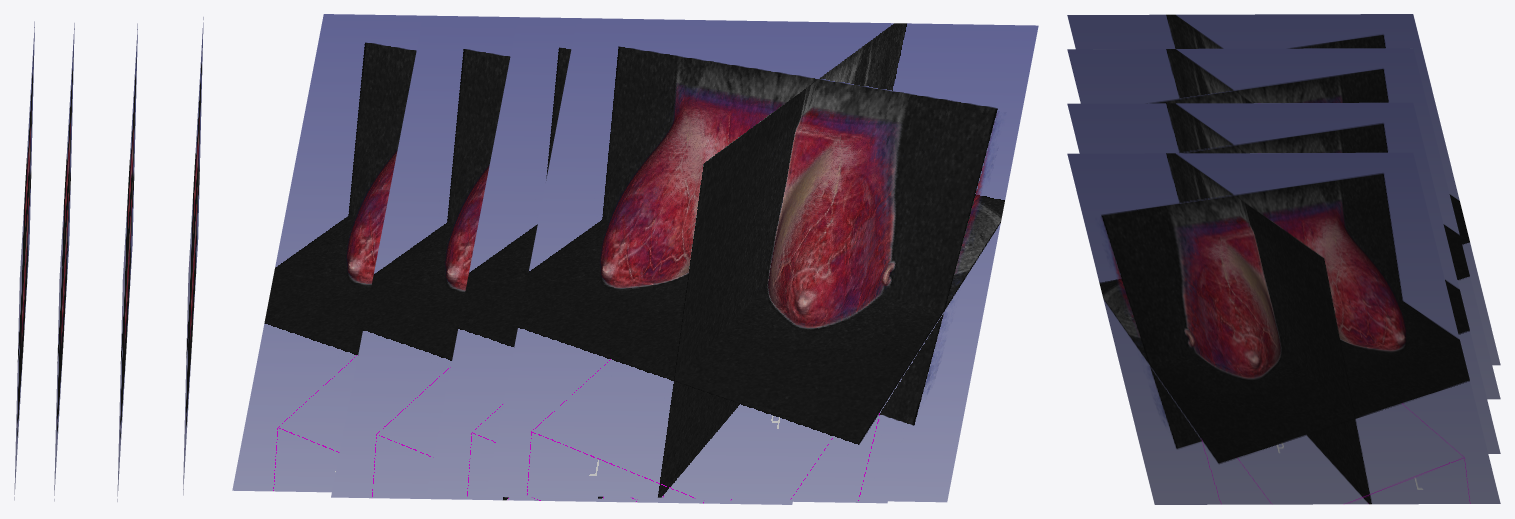
Rendered from algo_flow_chart_model3d1.glb.
3 renders of one model, left to right at view 1: azimuth 30°, elevation 25°; view 2: azimuth 150°, elevation 25°; view 3: azimuth 270°, elevation 25°, orthographic. The views are drawn at different scales.
Parts seen in each view (by area): view 1: mesh_id18, mesh_id16, mesh_id17, mesh_id19; view 2: mesh_id18, mesh_id19, mesh_id17, mesh_id16; view 3: mesh_id19, mesh_id16, mesh_id17, mesh_id18.
Part boxes in pixels (x1,y1,x2,y2): mesh_id18: (14, 21, 34, 500); mesh_id16: (54, 23, 74, 501); mesh_id17: (117, 23, 137, 501); mesh_id19: (183, 17, 203, 495); mesh_id18: (486, 18, 1038, 502); mesh_id19: (232, 14, 577, 492); mesh_id17: (331, 20, 792, 504); mesh_id16: (426, 19, 887, 503); mesh_id19: (1067, 152, 1500, 504); mesh_id16: (1067, 48, 1500, 399); mesh_id17: (1067, 102, 1500, 453); mesh_id18: (1067, 14, 1500, 365).
Bounding box in the file's own units: 0.3366 × 0.3797 × 0.3166.
4 materials, 4 textured.
